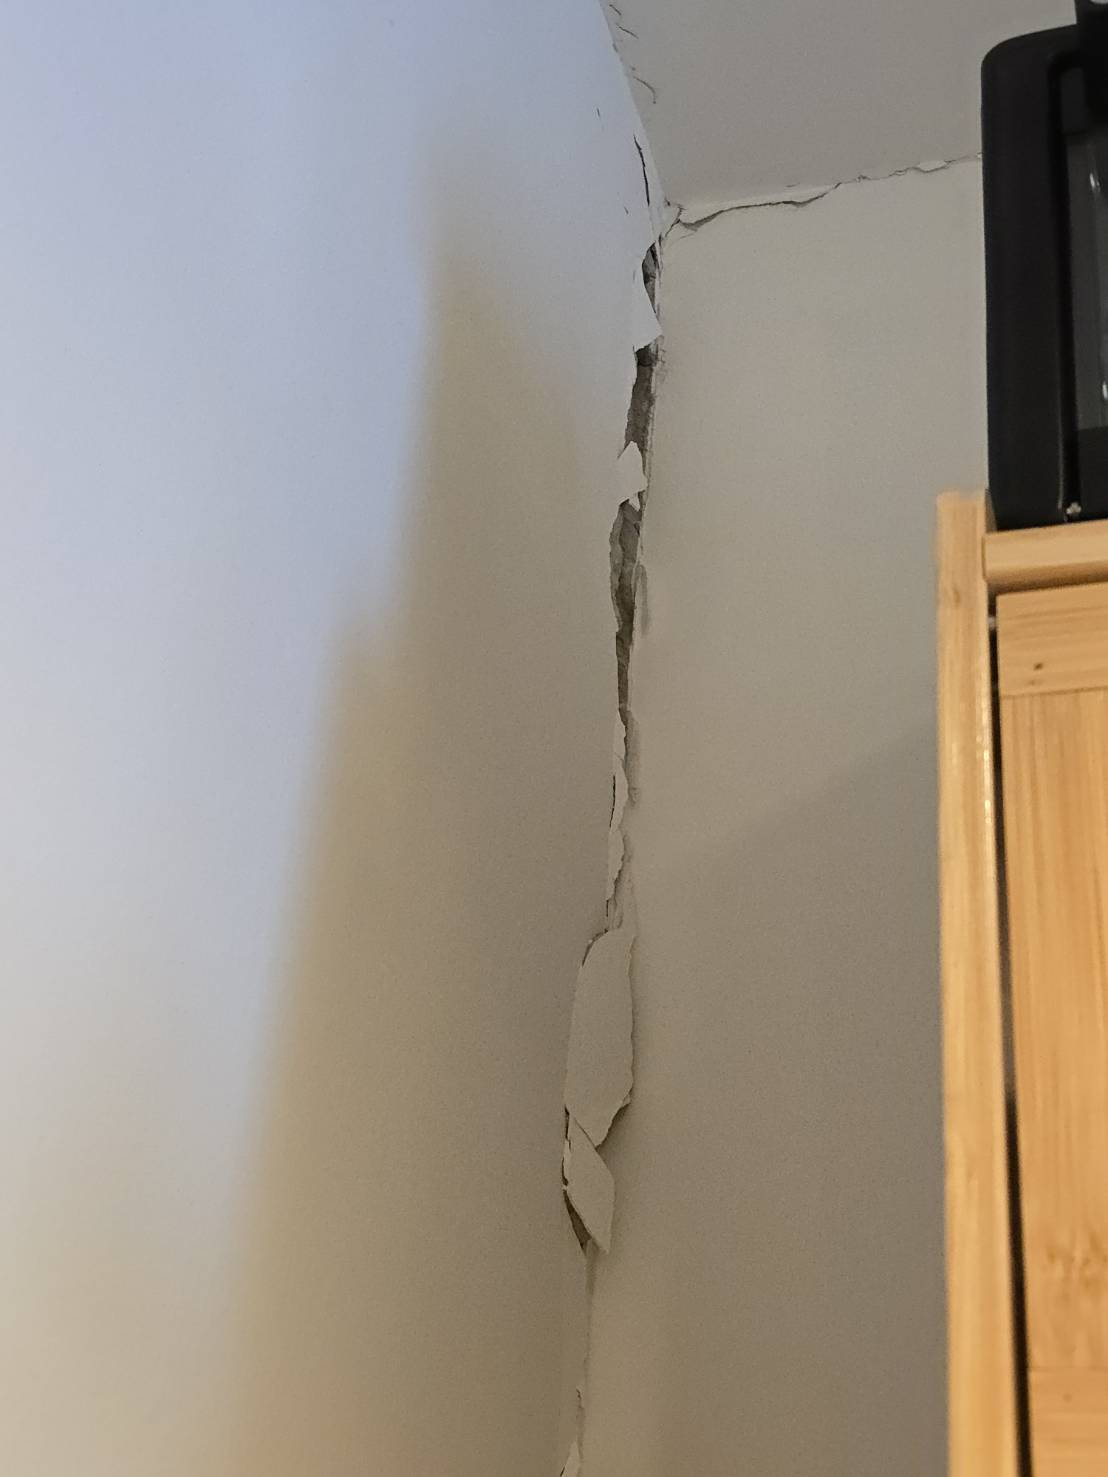Low: (521, 121, 932, 1467)
